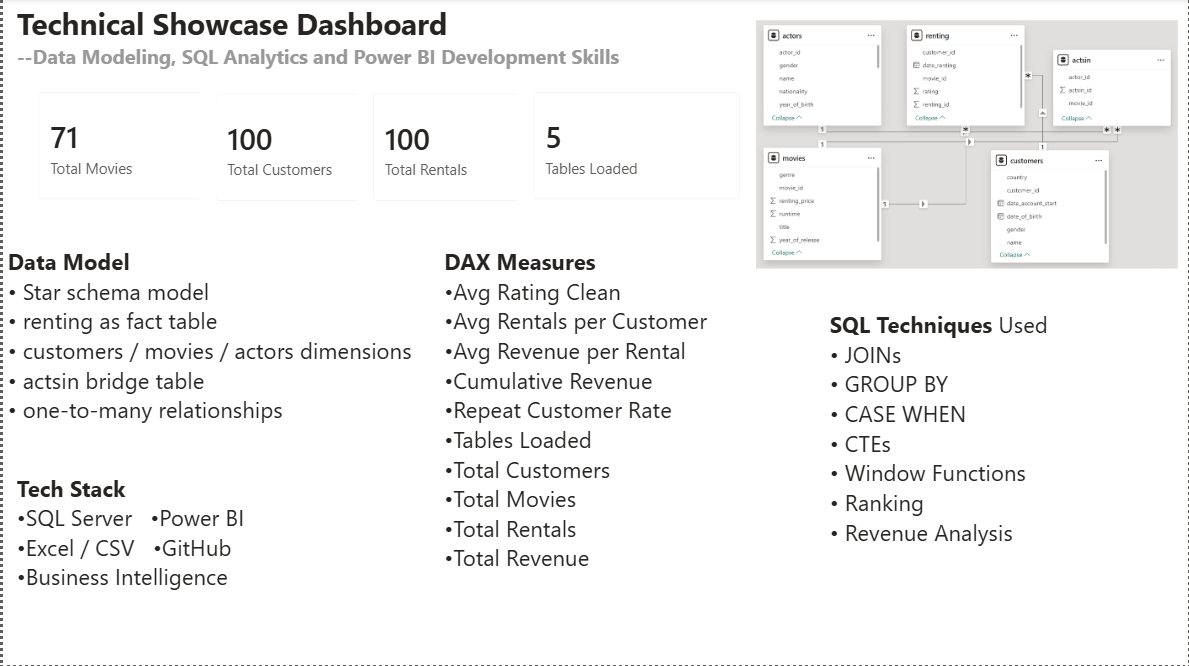

The page's visual inventory and layout, read from the dashboard file:
{"tool":"powerbi","page":{"name":"Technical Showcase Dashboard","canvas":[1280,720],"ordinal":5},"visuals":[{"type":"textbox","box":[9.7,0,764.3,84.2],"z":0},{"type":"cardVisual","fields":{"Data":["actors.Total Movies"]},"box":[21,84.2,257.5,150.6],"z":1000},{"type":"cardVisual","fields":{"Data":["actors.Total Customers"]},"box":[212.1,85.8,257.5,150.6],"z":2000},{"type":"cardVisual","fields":{"Data":["actors.Total Rentals"]},"box":[382.1,85.8,257.5,150.6],"z":3000},{"type":"cardVisual","fields":{"Data":["actors.Tables Loaded"]},"box":[555.4,84.2,257.5,150.6],"z":4000},{"type":"textbox","box":[0,261.9,534,458.3],"z":5000},{"type":"textbox","box":[887.3,330.3,306,275.3],"z":6000},{"type":"textbox","box":[470.5,261.9,341.7,411.2],"z":7000},{"type":"textbox","box":[10.2,507.4,411.2,212.8],"z":8000},{"type":"image","box":[812.9,0,455,315.7],"z":8001}]}

Visuals, with their boxes in screenshot pixels (x1, y1, x2, y2), scaled from the page's 1280x720 canvas onto the 1189x666 screenshot:
textbox: [9, 0, 719, 78]
cardVisual - actors.Total Movies: [20, 78, 259, 217]
cardVisual - actors.Total Customers: [197, 79, 436, 219]
cardVisual - actors.Total Rentals: [355, 79, 594, 219]
cardVisual - actors.Tables Loaded: [516, 78, 755, 217]
textbox: [0, 242, 496, 665]
textbox: [824, 306, 1108, 560]
textbox: [437, 242, 754, 623]
textbox: [9, 469, 391, 665]
image: [755, 0, 1178, 292]
